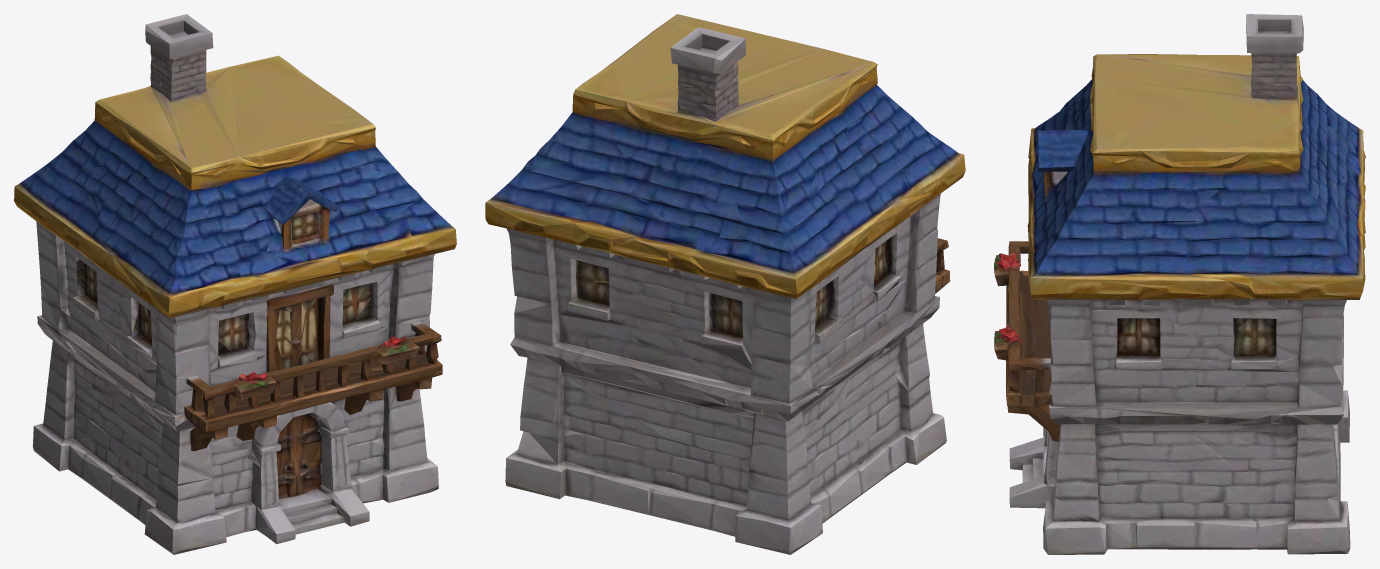
The model's file is oc_house_balcony.glb.
The picture shows the model from 3 angles, left to right: view 1: azimuth 30°, elevation 25°; view 2: azimuth 150°, elevation 25°; view 3: azimuth 270°, elevation 25°; orthographic projection. The views are drawn at different scales.
Visible parts, largest first — view 1: W_city_house_balcony; view 2: W_city_house_balcony; view 3: W_city_house_balcony.
Part boxes in pixels (x1,y1,x2,y2): W_city_house_balcony: (14,14,456,554); W_city_house_balcony: (485,14,965,554); W_city_house_balcony: (994,14,1365,554).
Size of the model in its own units: 9.32 by 13 by 9.69.
1 material, 1 textured.
